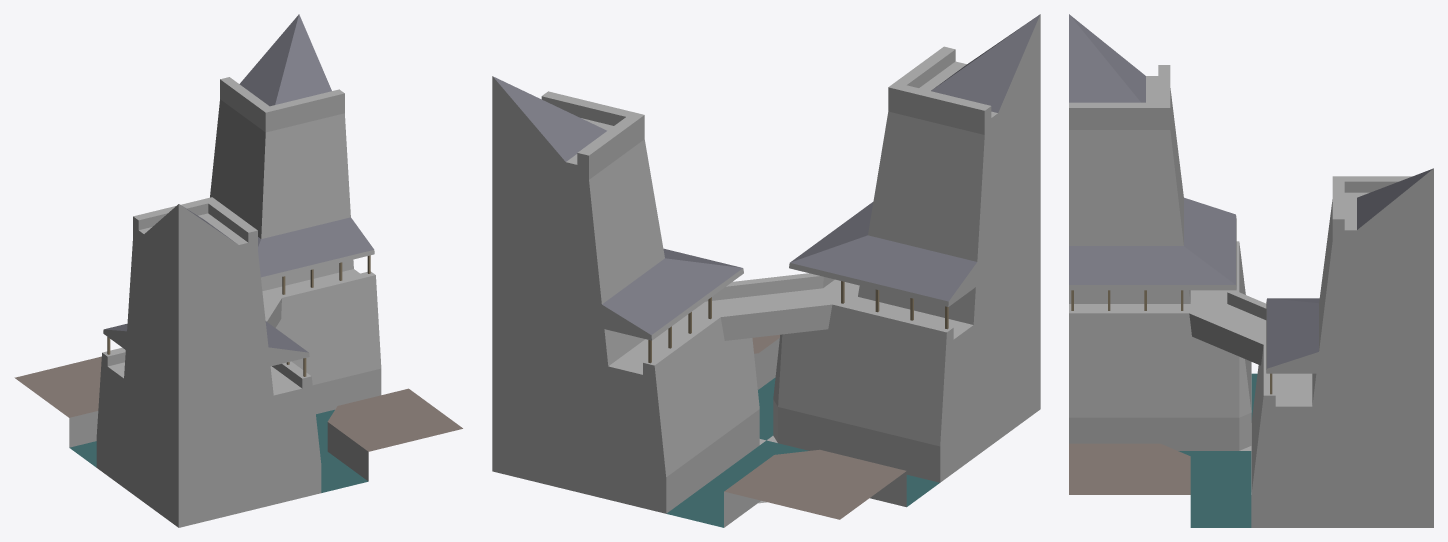
The model's file is rcrc.obj.
3 views of the same model, side by side, from view 1: azimuth 30°, elevation 25°; view 2: azimuth 150°, elevation 25°; view 3: azimuth 270°, elevation 25° (orthographic). The views are drawn at different scales.
Visible parts, largest first — view 1: rcrc; view 2: rcrc; view 3: rcrc.
Part boxes in pixels (box(x1,y1,x2,y2)): rcrc: box(14, 14, 462, 527); rcrc: box(492, 14, 1040, 527); rcrc: box(1069, 14, 1433, 527).
Bounding box in the file's own units: 30 × 32.63 × 30.
